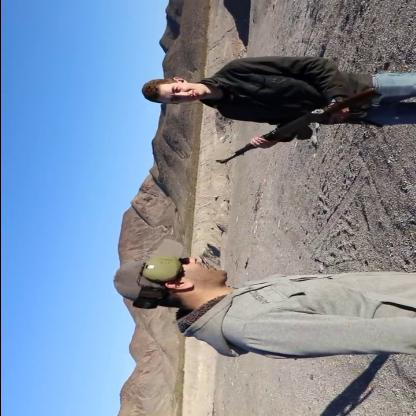long weapon: (208, 79, 380, 173)
